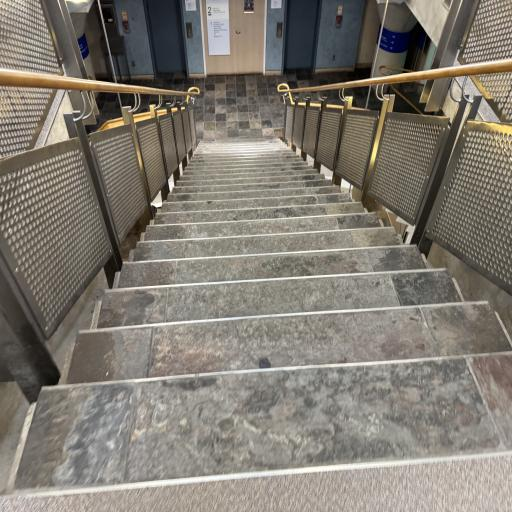Stairs: (14, 138, 512, 509)
